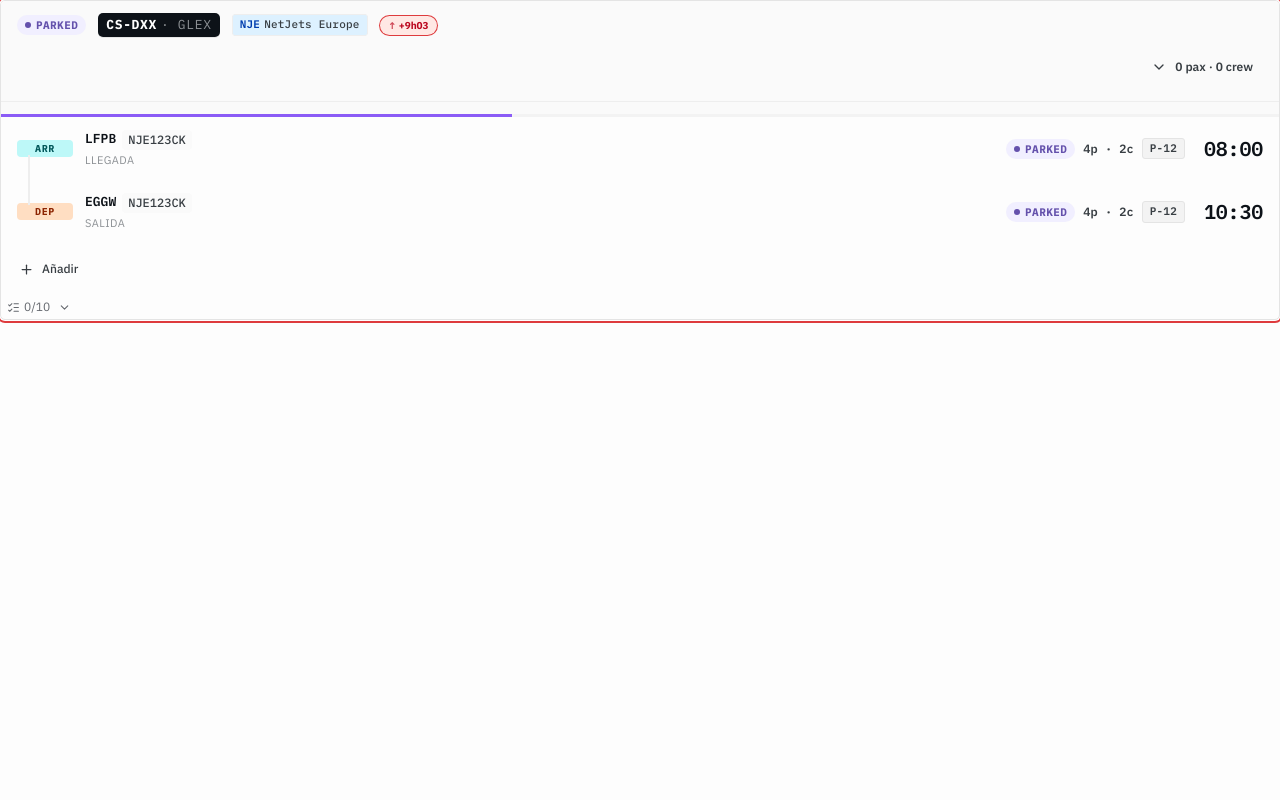
Test: VisitCard inline service picker (touch) › opens the AddServicePicker when '+ Añadir' is clicked
The image size is (1280, 800).
Click the button with aria-label "añadir servicio al vuelo" at (49, 270), box top-left (9, 248), bottom-right (88, 292)
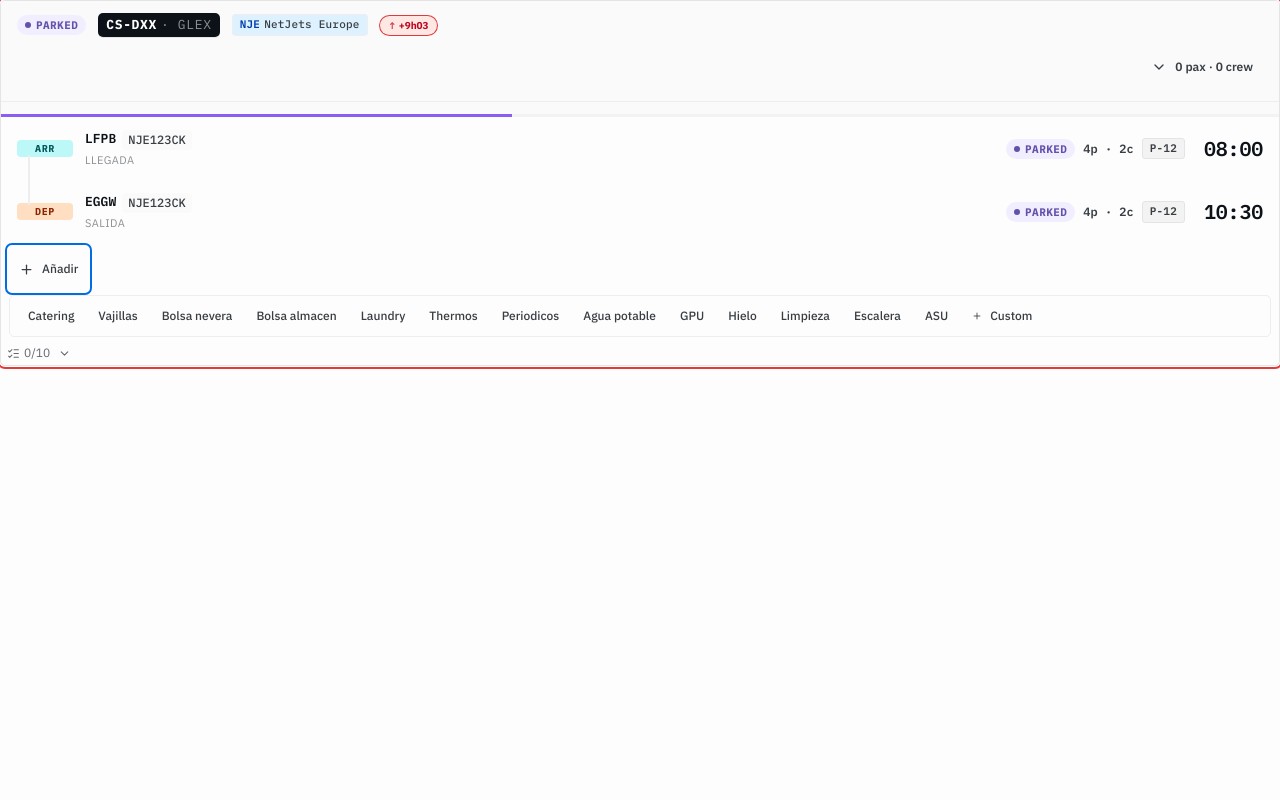
Expected: the dialog named "añadir servicio al vuelo" is shown, top-left (9, 296), bottom-right (1271, 338)
